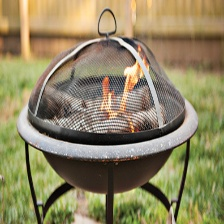fire: (98, 51, 150, 134)
